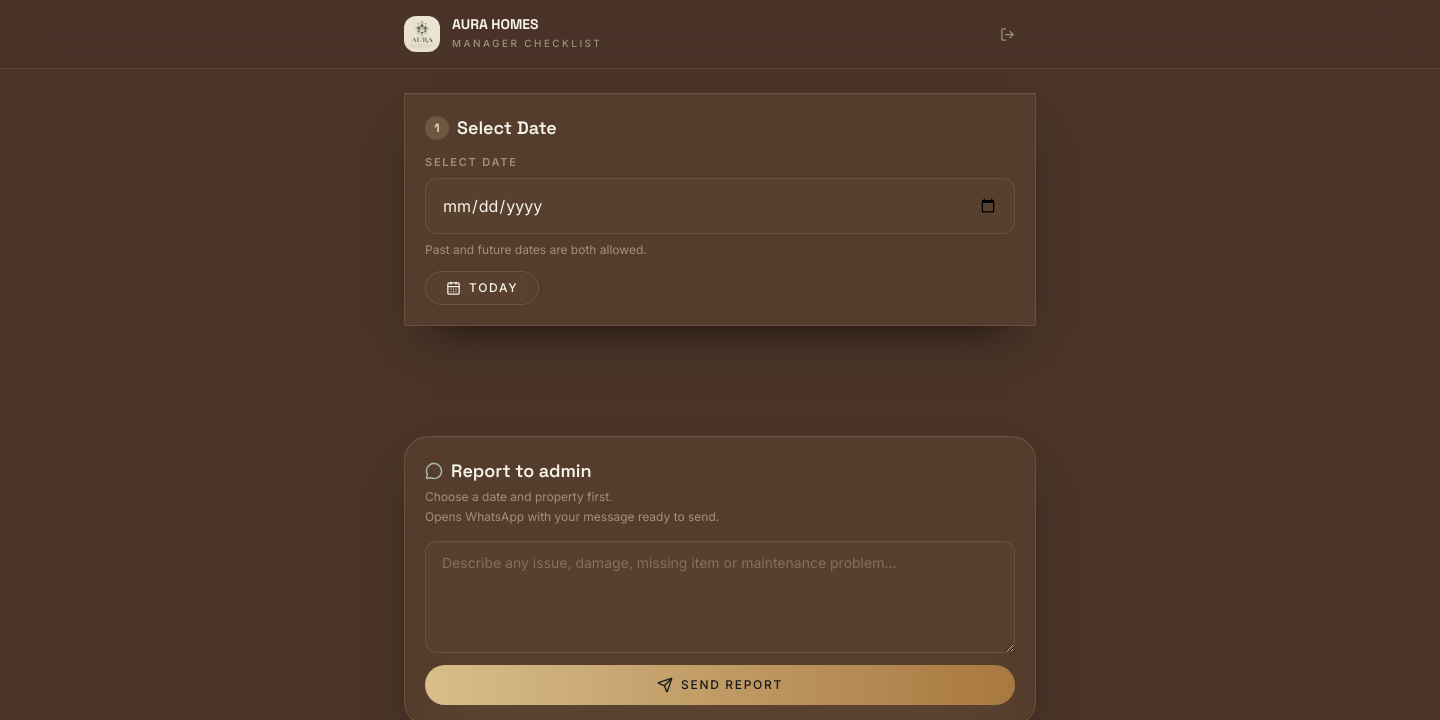
Scenario: ManagerPage — date-first flow › 3. keeps the checklist hidden until BOTH a date and a property are chosen
The width and height of the screenshot is (1440, 720).
Type "2026-09-26" into the date field labelled "Select Date" at (720, 206), box [425,178,1015,234]
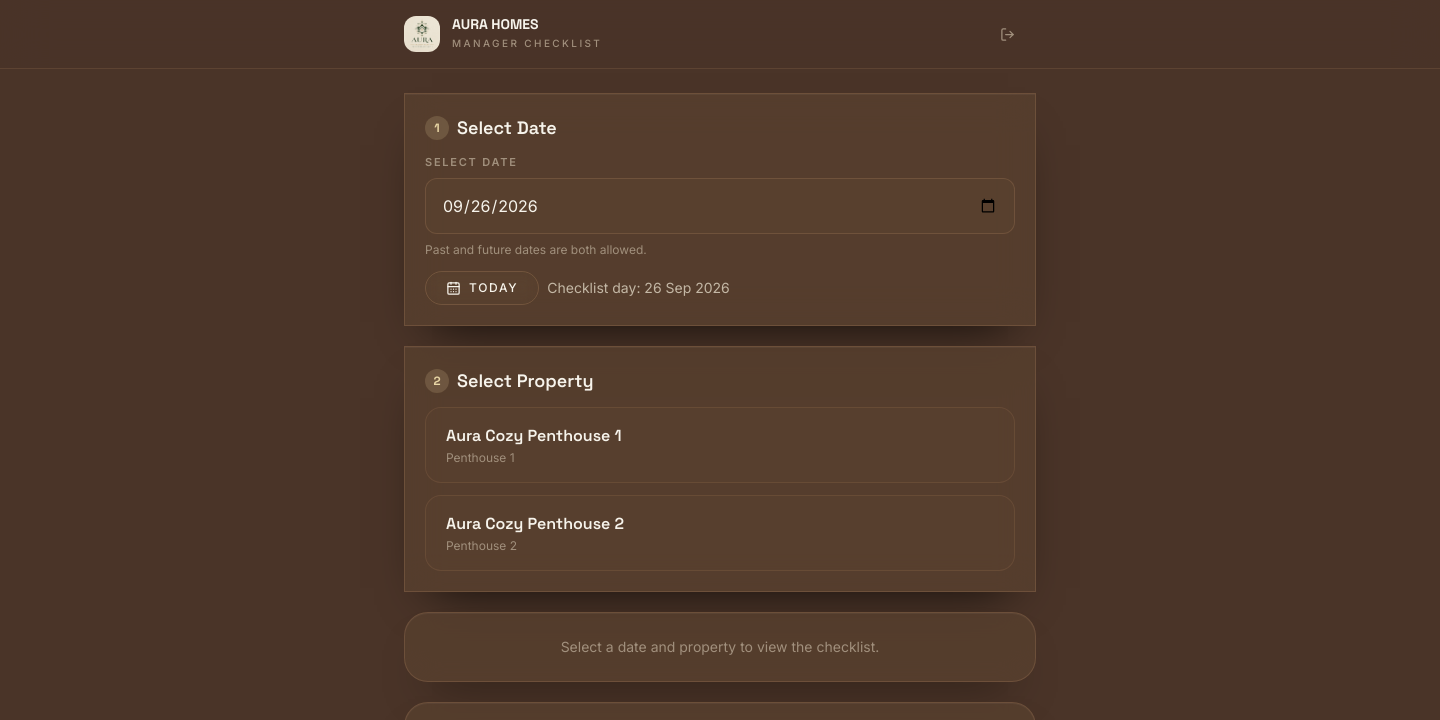
Expected: the text "Cleaning" is not shown
Expected: the heading "2 Select Property" is shown, [425,369,594,393]
Expected: the text "Select a date and property to view the checklist." is shown, [404,612,1036,682]
Click the button "Aura Cozy Penthouse 1 Penthouse 1" at (534, 436), box [425,407,1015,483]
(page scrolled)
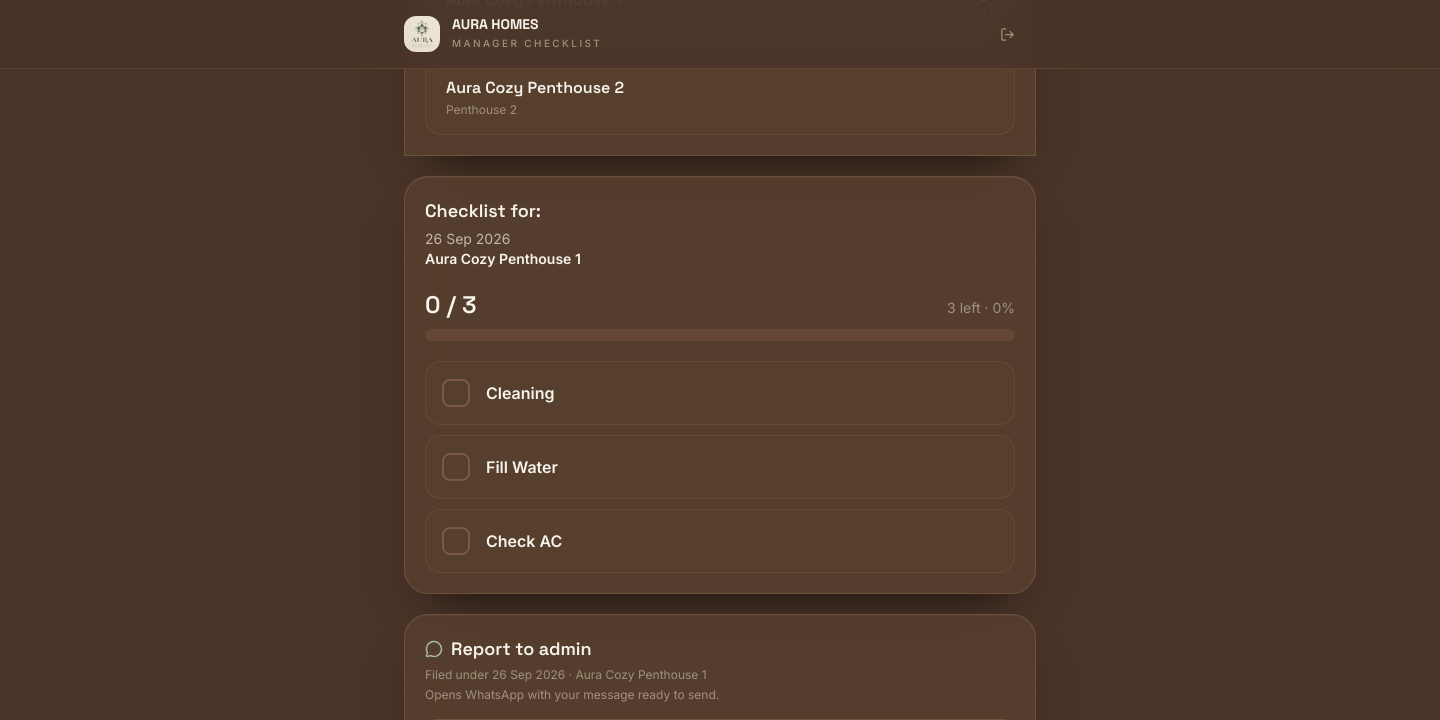
Expected: the text "Cleaning" is shown, [486,383,555,403]
Expected: the text "Select a date and property to view the checklist." is gone
